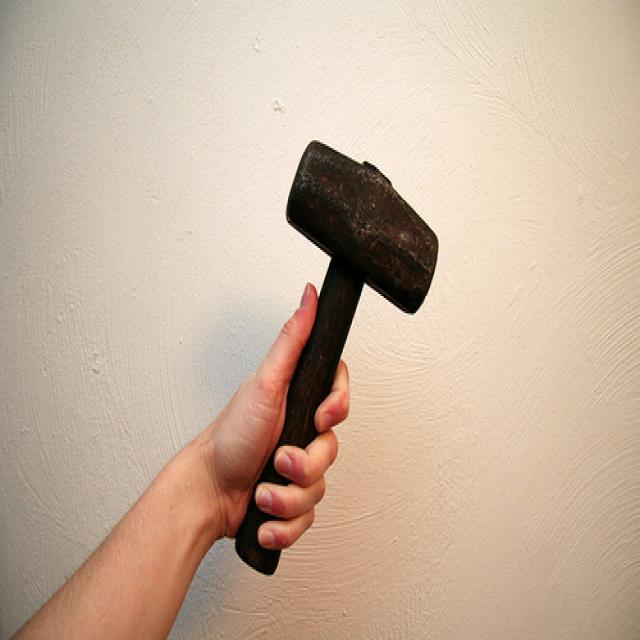hammer: (224, 129, 446, 585)
